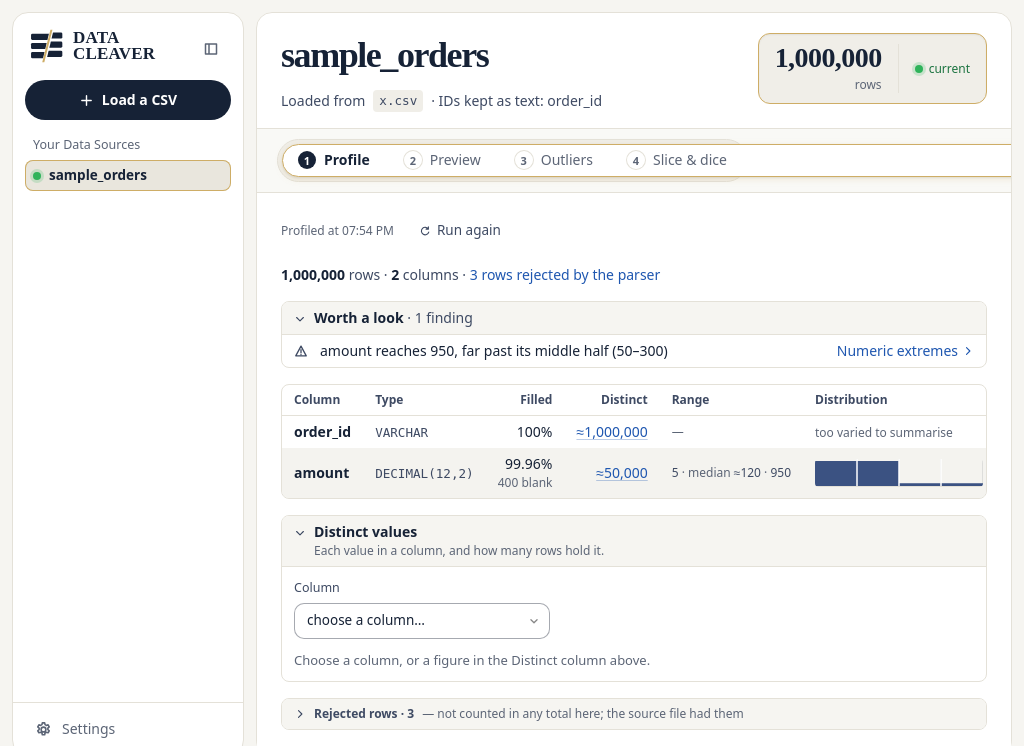
Scenario: Slice & dice keeps your work › keeps Slice's filters while you visit Pivot; the key sits beside the tabs
The width and height of the screenshot is (1024, 746).
Click the tab "4 Slice & dice".
click(677, 160)  # box [611,144,743,177]
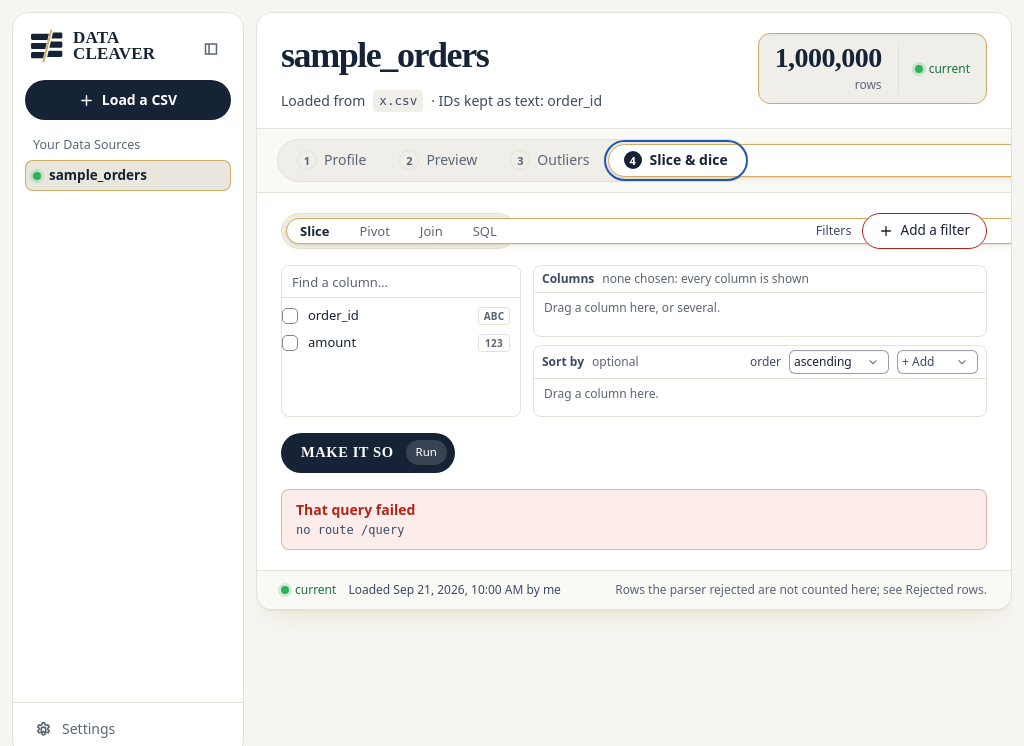
Click the button "Add a filter".
click(924, 231)  # box [862,213,987,249]
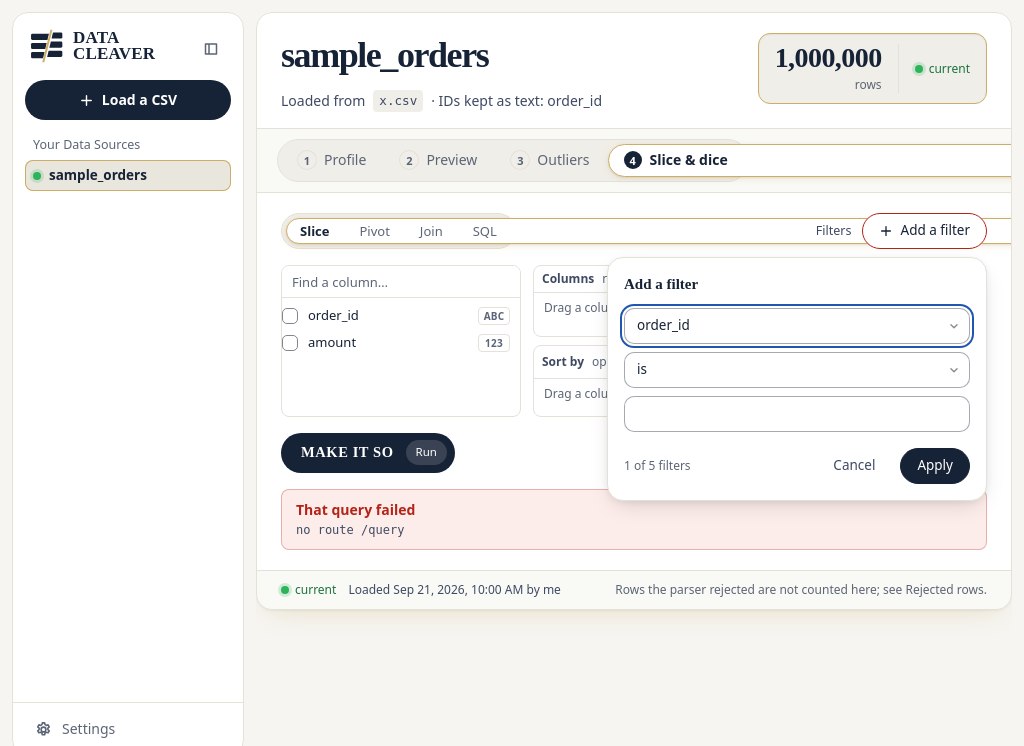
Type "A1" into the field named "Value for filter 1".
click(797, 414); type("A1")  # box [624,396,970,432]
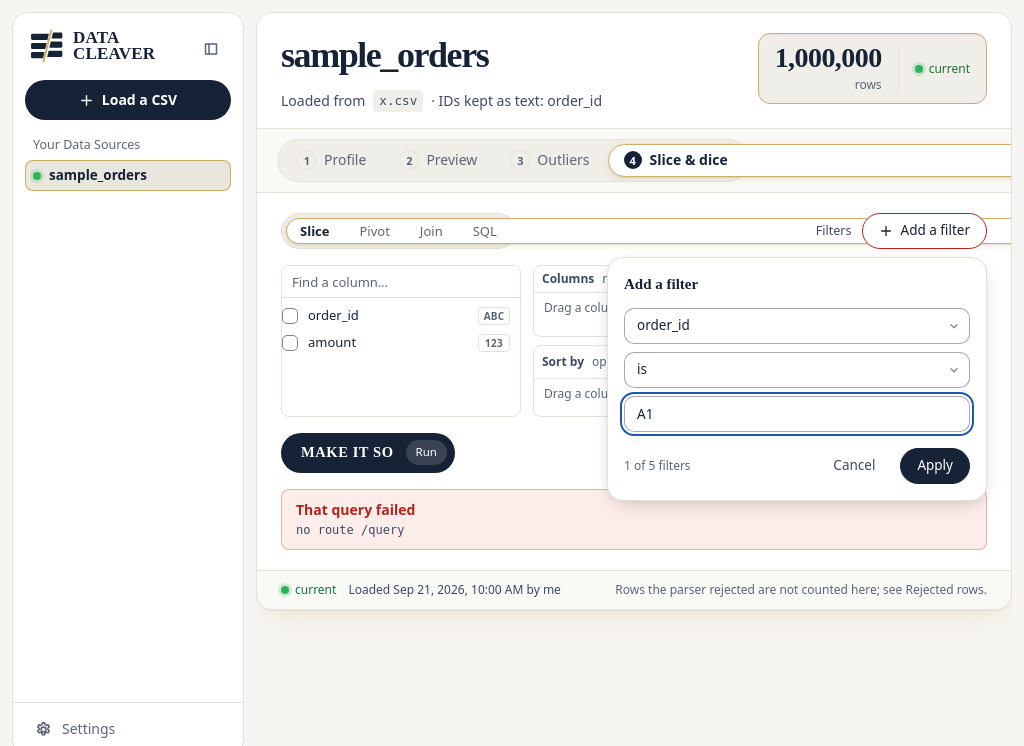
Click the button "Apply".
click(935, 466)  # box [900,448,970,484]
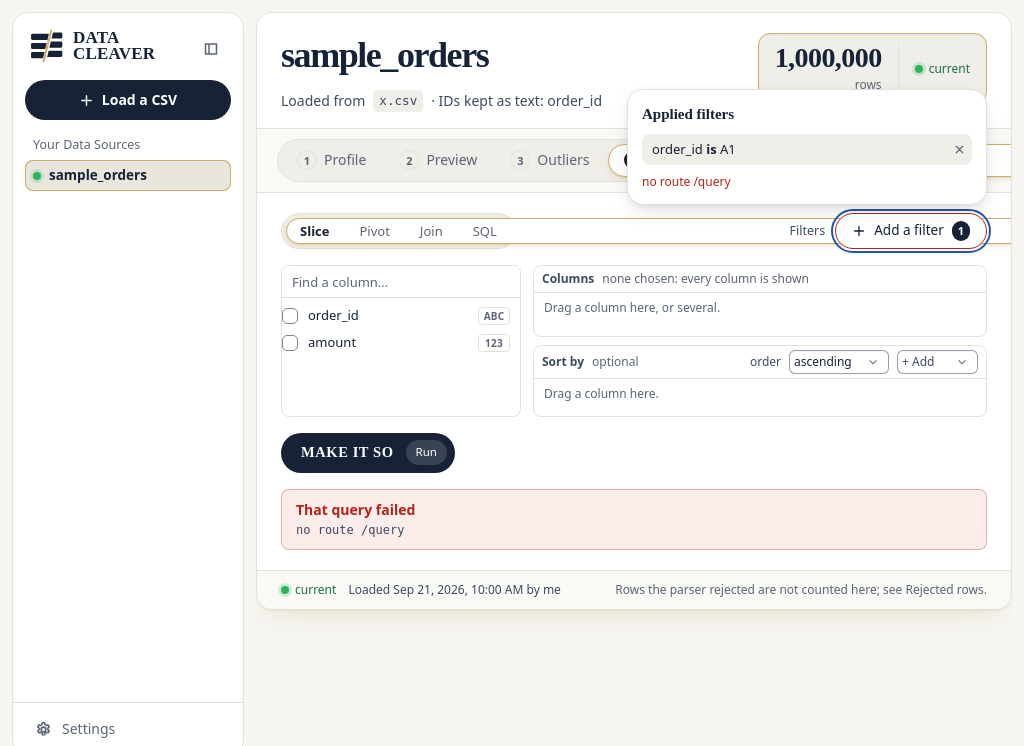
Check: the button with aria-label "Add a filter, 1 applied" is shown, box [835,213,987,249]
Click the tab "Pivot".
click(375, 231)  # box [346,218,404,244]
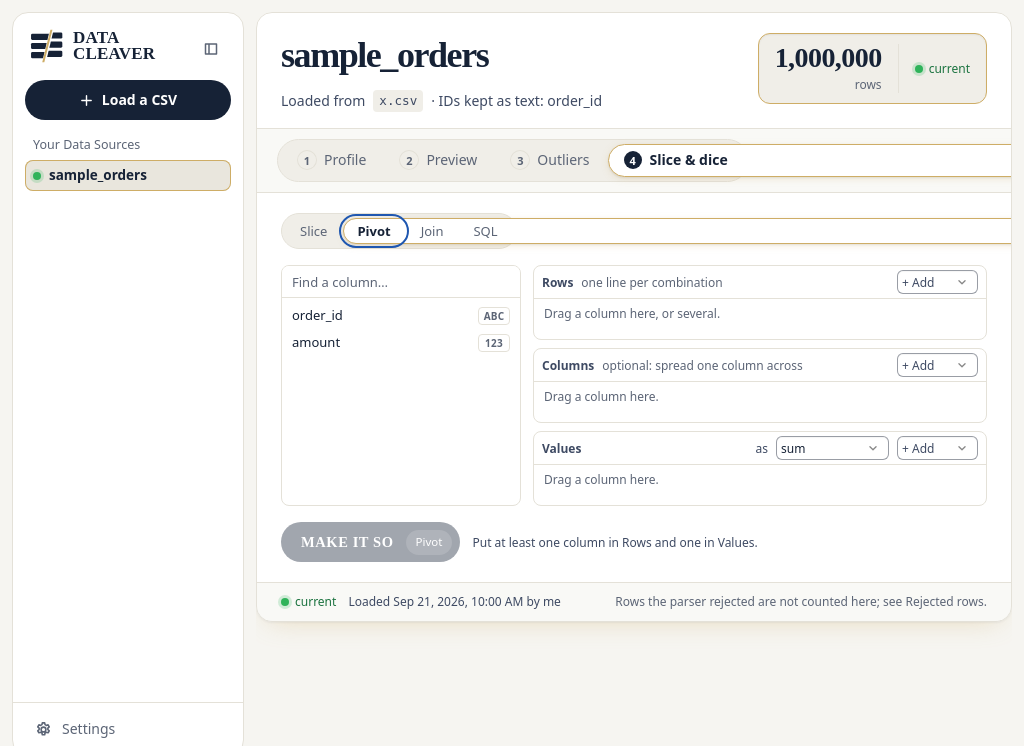
Check: the button "Add a filter" is gone
Click the tab "Slice".
click(314, 231)  # box [286,218,341,244]
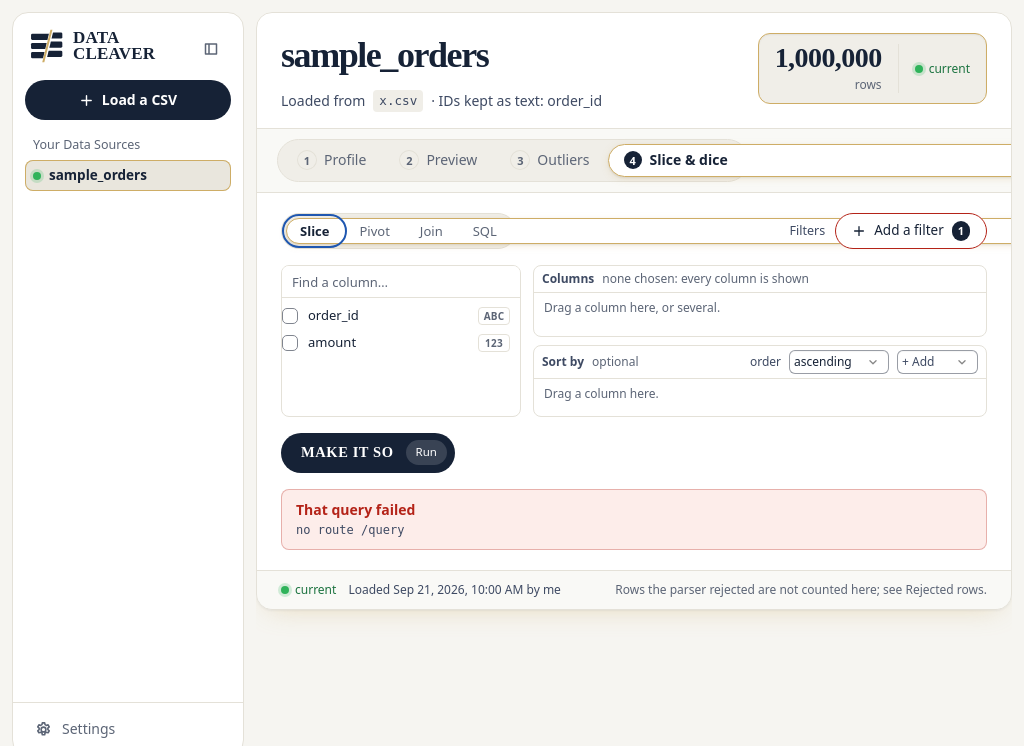
Check: the button with aria-label "Add a filter, 1 applied" is shown, box [835,213,987,249]
